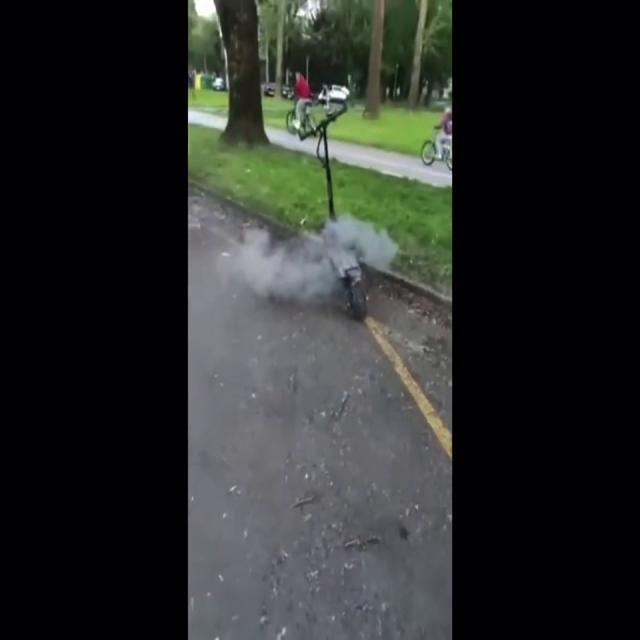Smoke: (206, 203, 396, 305)
